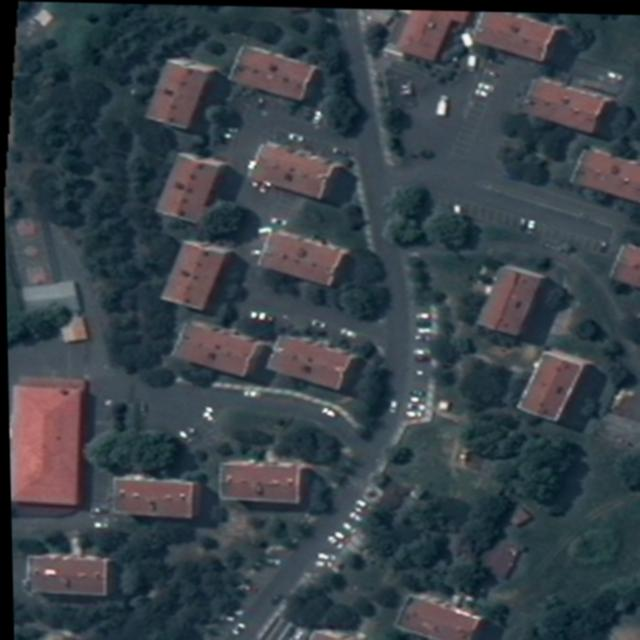Batiment: (9, 378, 92, 515), (477, 262, 570, 342), (523, 74, 634, 137), (251, 141, 357, 205), (146, 57, 230, 132), (172, 320, 272, 383), (475, 8, 580, 67), (155, 151, 243, 221), (218, 460, 331, 513), (229, 46, 323, 104), (393, 592, 500, 640), (516, 347, 588, 417), (259, 230, 346, 283), (266, 334, 353, 387), (160, 241, 224, 308), (395, 7, 475, 58), (572, 146, 640, 197), (24, 554, 106, 594), (113, 478, 191, 517), (258, 613, 364, 640), (8, 217, 51, 282), (609, 241, 640, 285)
